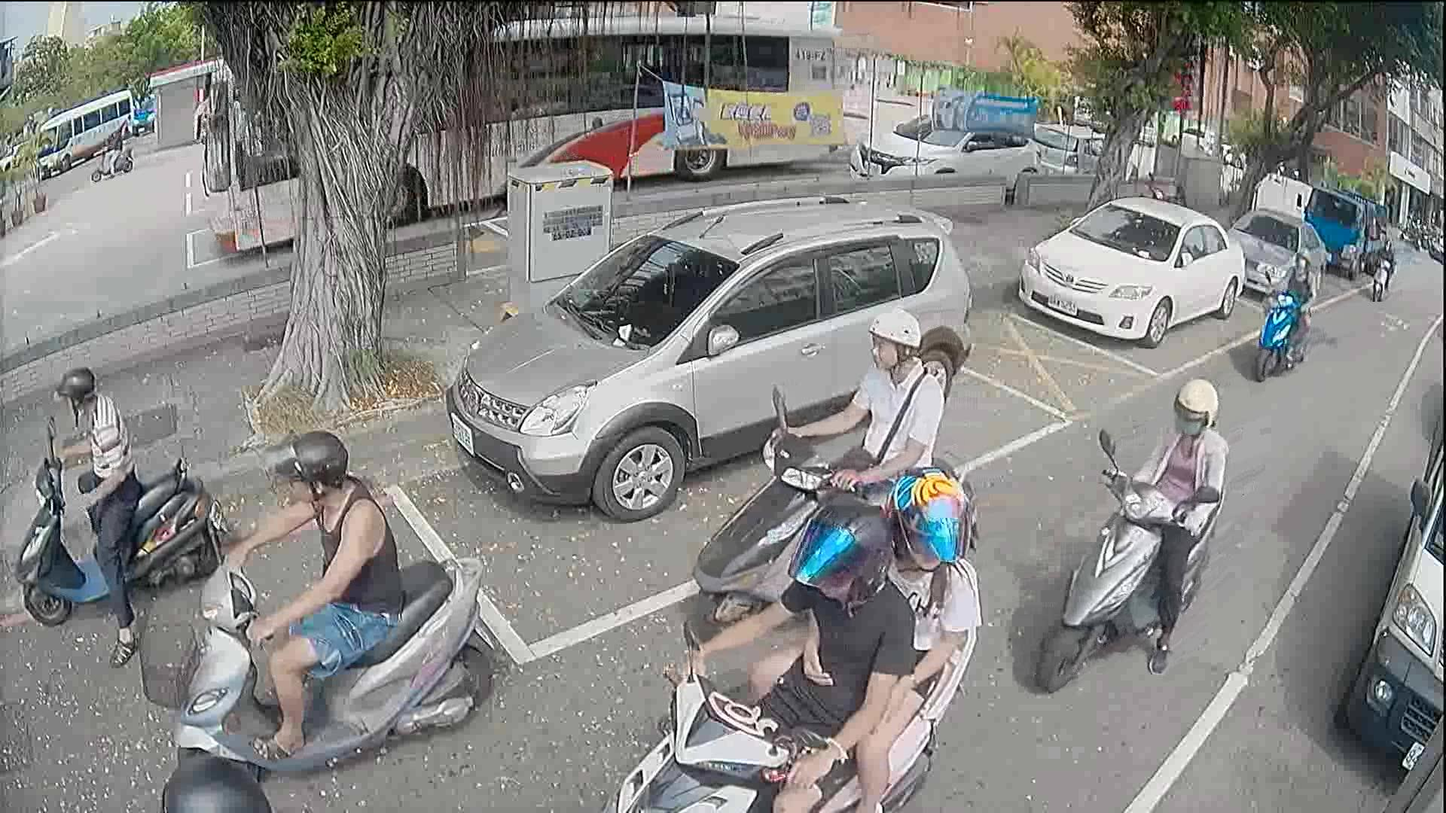person: (751, 446, 982, 812), (655, 499, 910, 812), (214, 423, 403, 769), (1087, 379, 1226, 665), (766, 311, 944, 499), (38, 358, 142, 662), (1255, 239, 1318, 370), (160, 745, 273, 812), (99, 124, 122, 175), (1381, 237, 1393, 260)
